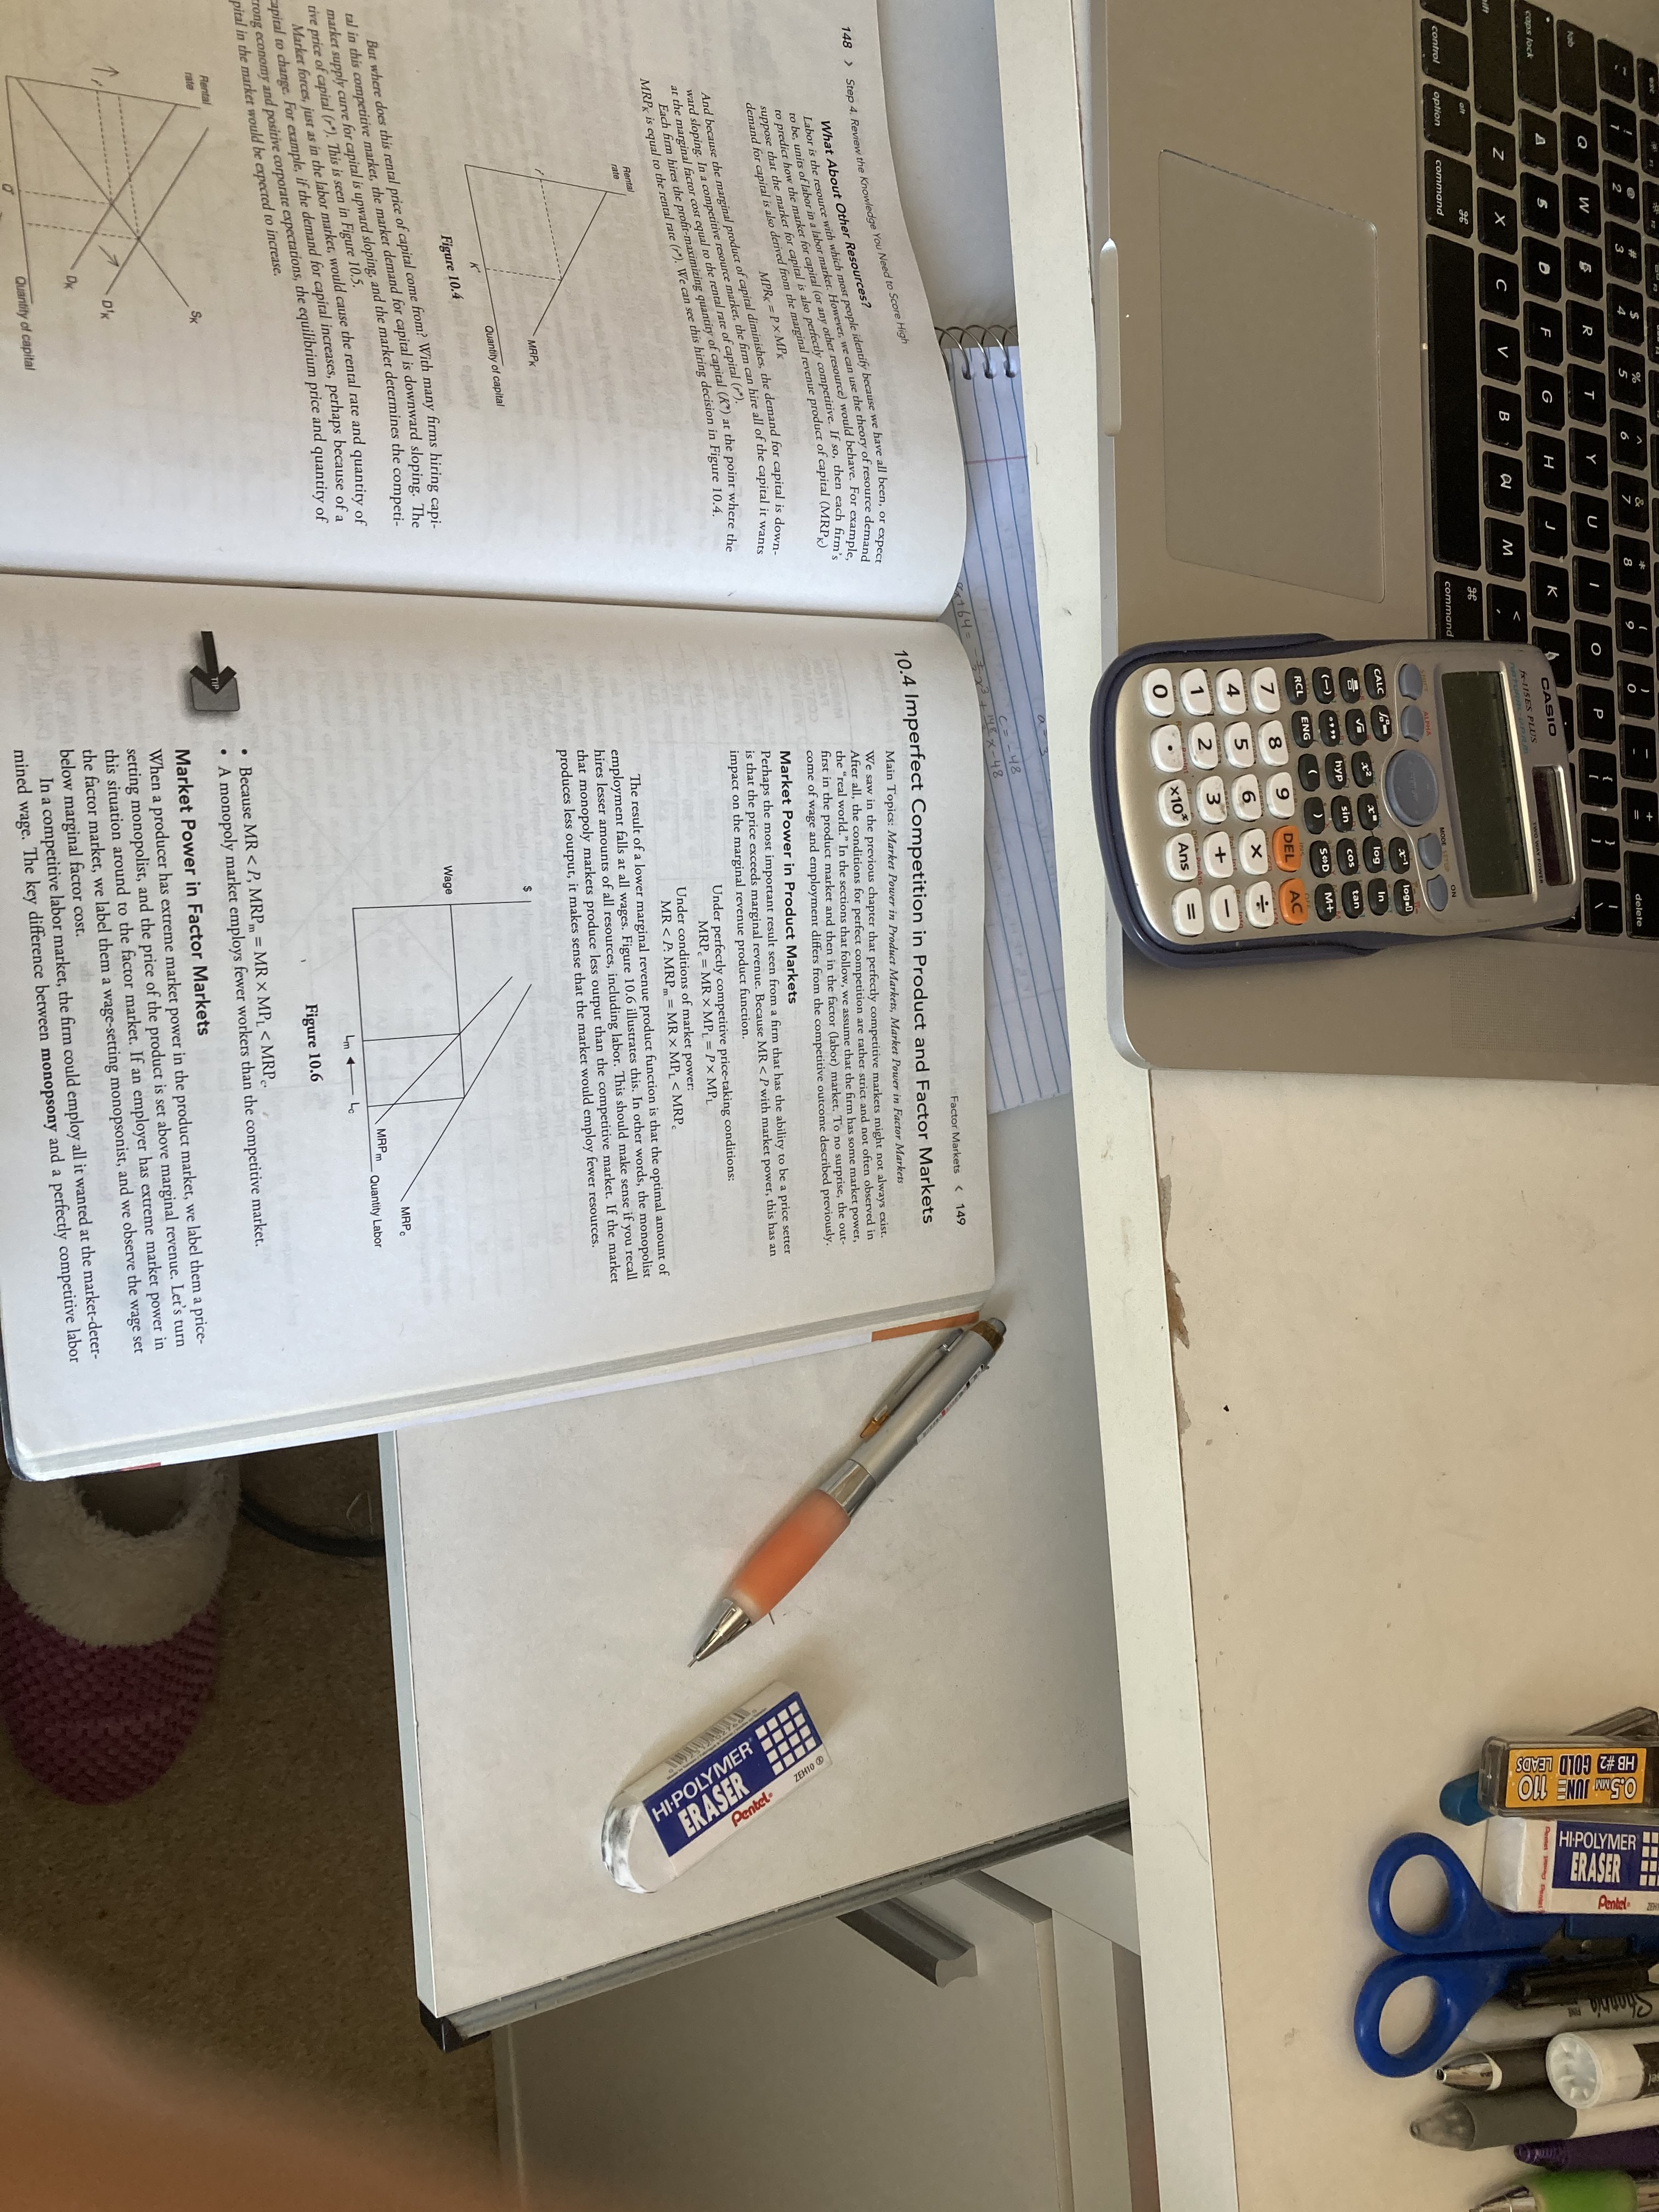Calculator: (1105, 632, 1588, 954)
Open Book: (5, 7, 1007, 1456)
